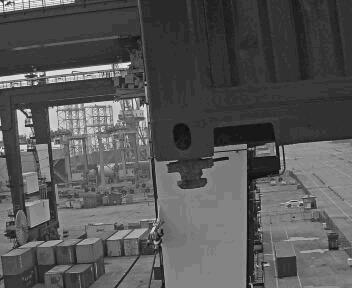twist_lock_1: (155, 149, 216, 199)
